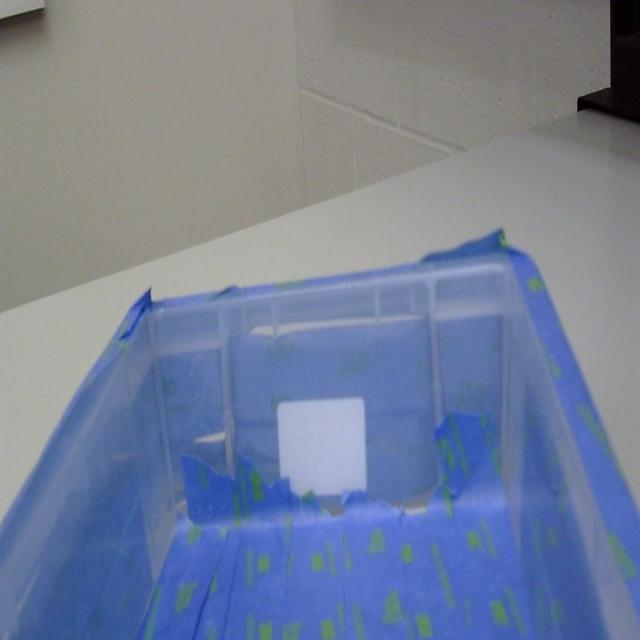bucket: (0, 226, 639, 640)
